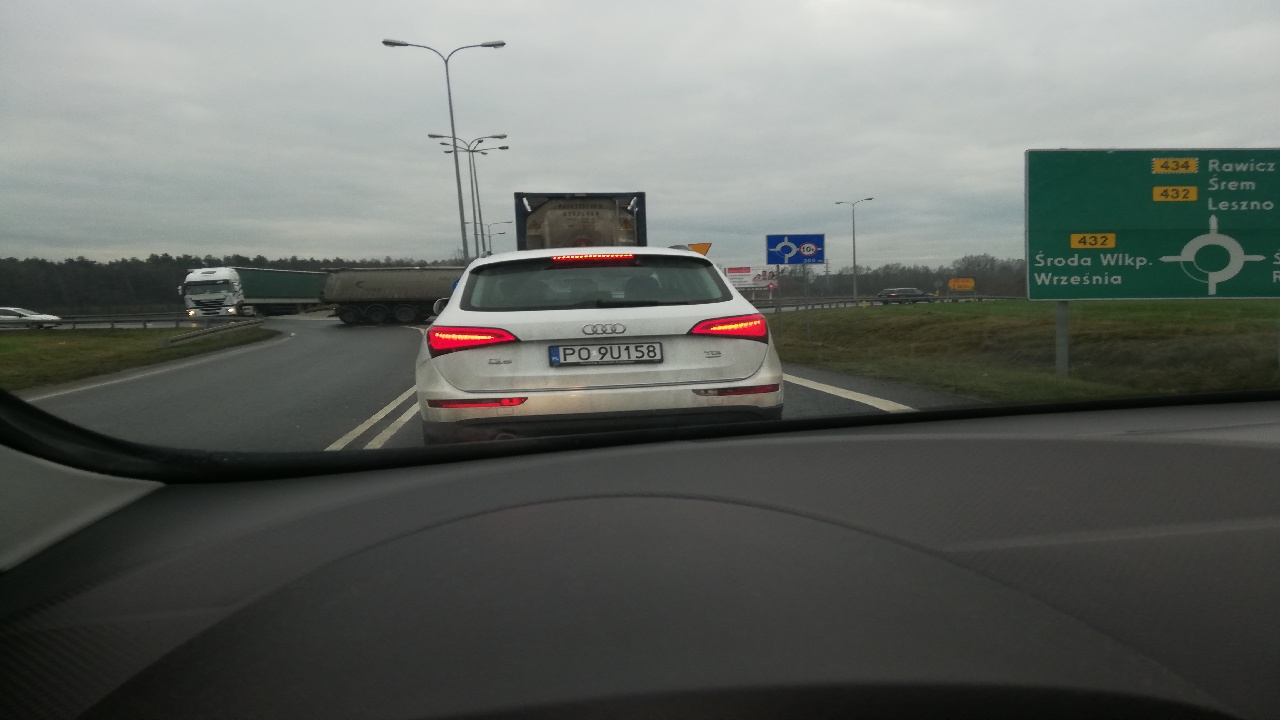A7: (688, 242, 713, 256)
